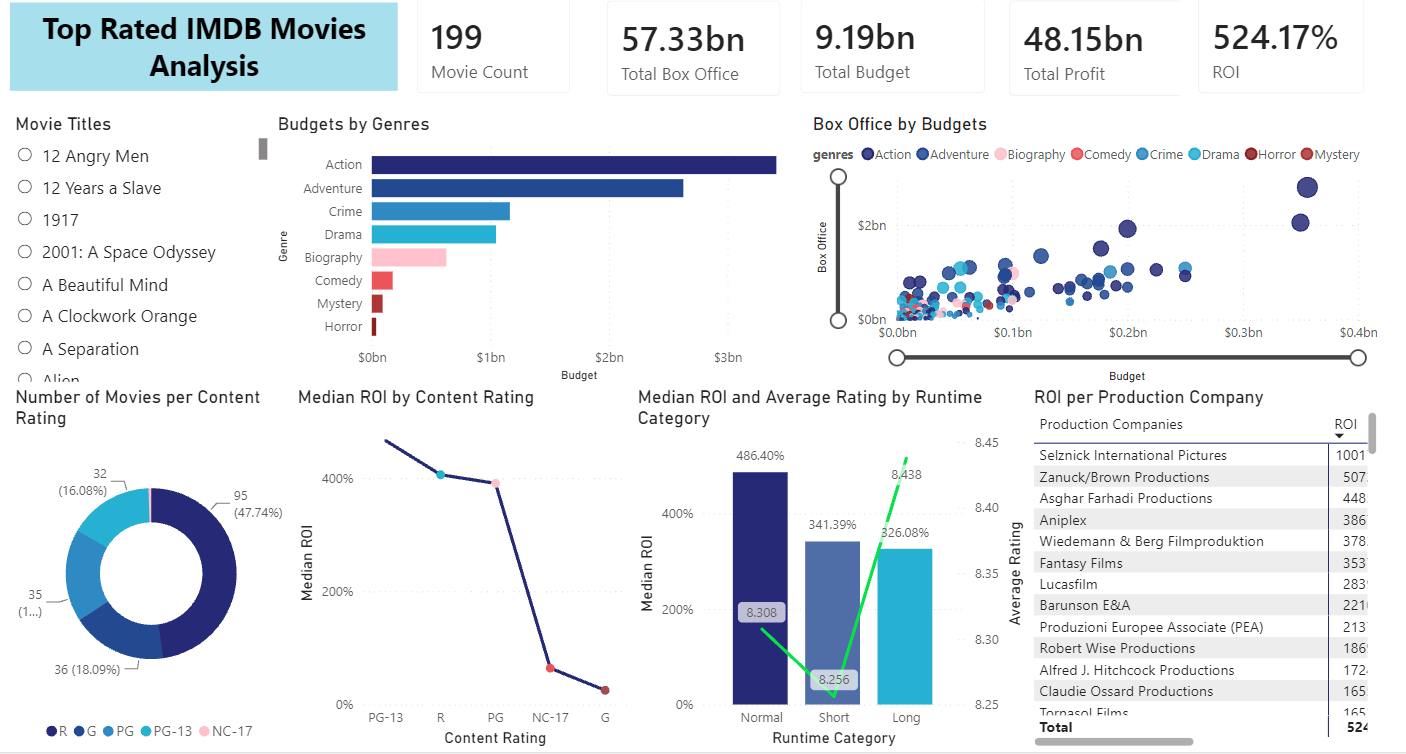

The dashboard page shown, as its layout file describes it:
{"tool":"powerbi","page":{"name":"Page 1","canvas":[1280,720],"ordinal":0},"visuals":[{"type":"cardVisual","fields":{"Data":["Measures Table.Movie Count"]},"box":[362,0,177.9,123.2],"z":0},{"type":"cardVisual","fields":{"Data":["Measures Table.Total Box Office"]},"box":[539.9,2.5,196.5,123.2],"z":1000},{"type":"cardVisual","fields":{"Data":["Measures Table.Total Budget"]},"box":[720.3,0,206.5,123.2],"z":2000},{"type":"cardVisual","fields":{"Data":["Measures Table.Total Profit"]},"box":[915.6,2.5,200.3,123.2],"z":3000},{"type":"barChart","title":"Budgets by Genres","fields":{"Category":["ToP 250 movies on imdb in 2026.genres"],"Series":["ToP 250 movies on imdb in 2026.genres"],"Y":["Sum(ToP 250 movies on imdb in 2026.budget)"]},"box":[245.1,123.2,498.8,256.3],"z":4000},{"type":"scatterChart","title":"Box Office by Budgets","fields":{"Category":["ToP 250 movies on imdb in 2026.primaryTitle"],"Series":["ToP 250 movies on imdb in 2026.genres"],"Size":["Measures Table.Total Profit"],"X":["Sum(ToP 250 movies on imdb in 2026.budget)"],"Y":["Sum(ToP 250 movies on imdb in 2026.grossWorldwide)"]},"box":[743.9,123.2,536.1,256.3],"z":5000},{"type":"cardVisual","fields":{"Data":["Measures Table.ROI %"]},"box":[1091,0,189.1,123.2],"z":6000},{"type":"listSlicer","title":"Movie Titles","fields":{"Values":["ToP 250 movies on imdb in 2026.primaryTitle"]},"box":[0,123.2,245.1,256.3],"z":7000},{"type":"donutChart","title":"Number of Movies per Content Rating","fields":{"Category":["ToP 250 movies on imdb in 2026.contentRating"],"Y":["CountNonNull(ToP 250 movies on imdb in 2026.contentRating)"]},"box":[0,379.4,263.7,340.8],"z":8000},{"type":"lineClusteredColumnComboChart","title":"Median ROI and Average Rating by Runtime Category","fields":{"Category":["ToP 250 movies on imdb in 2026.Runtime Category"],"Y":["Measures Table.Average ROI"],"Y2":["Avg(ToP 250 movies on imdb in 2026.averageRating)"]},"box":[580.9,379.4,369.5,340.8],"z":9000},{"type":"lineChart","fields":{"Category":["ToP 250 movies on imdb in 2026.contentRating"],"Y":["Measures Table.Median ROI"]},"box":[263.7,379.4,317.2,340.8],"z":10000},{"type":"pivotTable","title":"ROI per Production Company","fields":{"Rows":["ToP 250 movies on imdb in 2026.productionCompanies"],"Values":["Measures Table.ROI %"]},"box":[950.4,379.4,329.6,340.8],"z":11000},{"type":"textbox","box":[0,21.1,362,82.1],"z":12000}]}

Visuals, with their boxes on the page's 1280x720 design canvas (x1, y1, x2, y2). These are canvas units, not pixel positions in the 1406x754 screenshot, which may show the page scaled, cropped or inside an application window:
cardVisual - Measures Table.Movie Count: x1=362 y1=0 x2=540 y2=123
cardVisual - Measures Table.Total Box Office: x1=540 y1=2 x2=736 y2=126
cardVisual - Measures Table.Total Budget: x1=720 y1=0 x2=927 y2=123
cardVisual - Measures Table.Total Profit: x1=916 y1=2 x2=1116 y2=126
"Budgets by Genres" barChart: x1=245 y1=123 x2=744 y2=380
"Box Office by Budgets" scatterChart: x1=744 y1=123 x2=1280 y2=380
cardVisual - Measures Table.ROI %: x1=1091 y1=0 x2=1280 y2=123
"Movie Titles" listSlicer: x1=0 y1=123 x2=245 y2=380
"Number of Movies per Content Rating" donutChart: x1=0 y1=379 x2=264 y2=720
"Median ROI and Average Rating by Runtime Category" lineClusteredColumnComboChart: x1=581 y1=379 x2=950 y2=720
lineChart - ToP 250 movies on imdb in 2026.contentRating x Measures Table.Median ROI: x1=264 y1=379 x2=581 y2=720
"ROI per Production Company" pivotTable: x1=950 y1=379 x2=1280 y2=720
textbox: x1=0 y1=21 x2=362 y2=103
